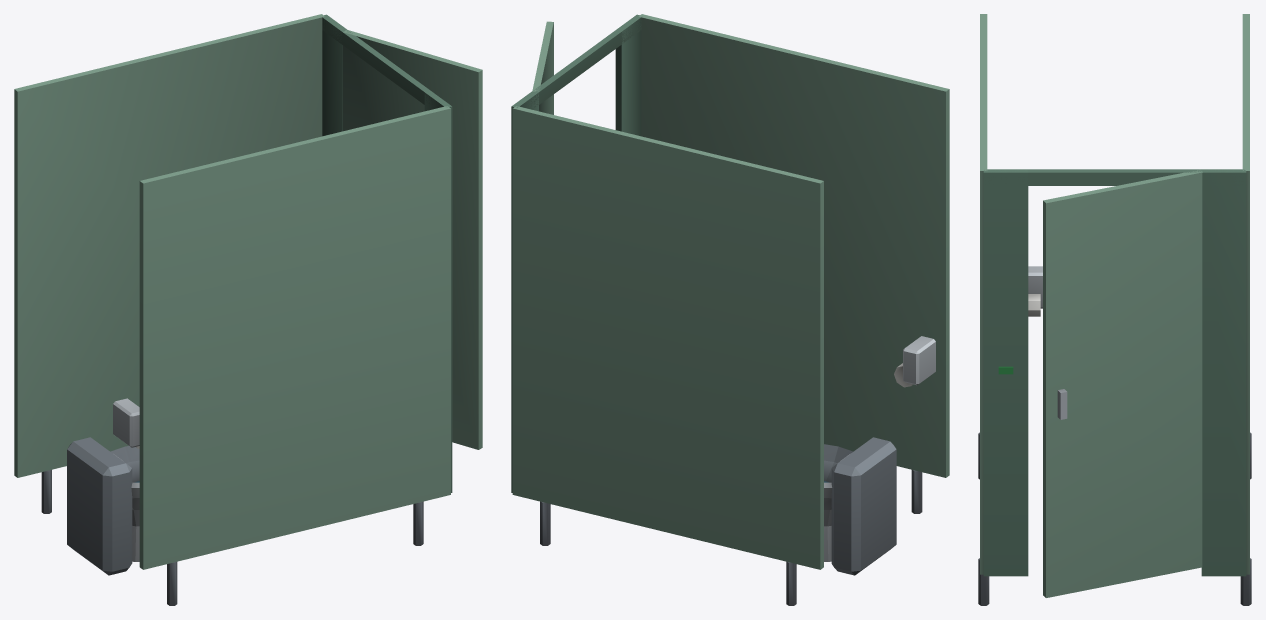
The model's file is toilet_stall.glb.
The picture shows the model from 3 angles, left to right: view 1: azimuth 30°, elevation 25°; view 2: azimuth 150°, elevation 25°; view 3: azimuth 270°, elevation 25°; orthographic projection. The views are drawn at different scales.
Visible parts, largest first — view 1: Body; view 2: Body; view 3: Body.
Part boxes in pixels (x1,y1,x2,y2): Body: (14,14,482,605); Body: (511,14,949,605); Body: (978,14,1251,605).
Size of the model in its own units: 1.82 by 2 by 1.1.
